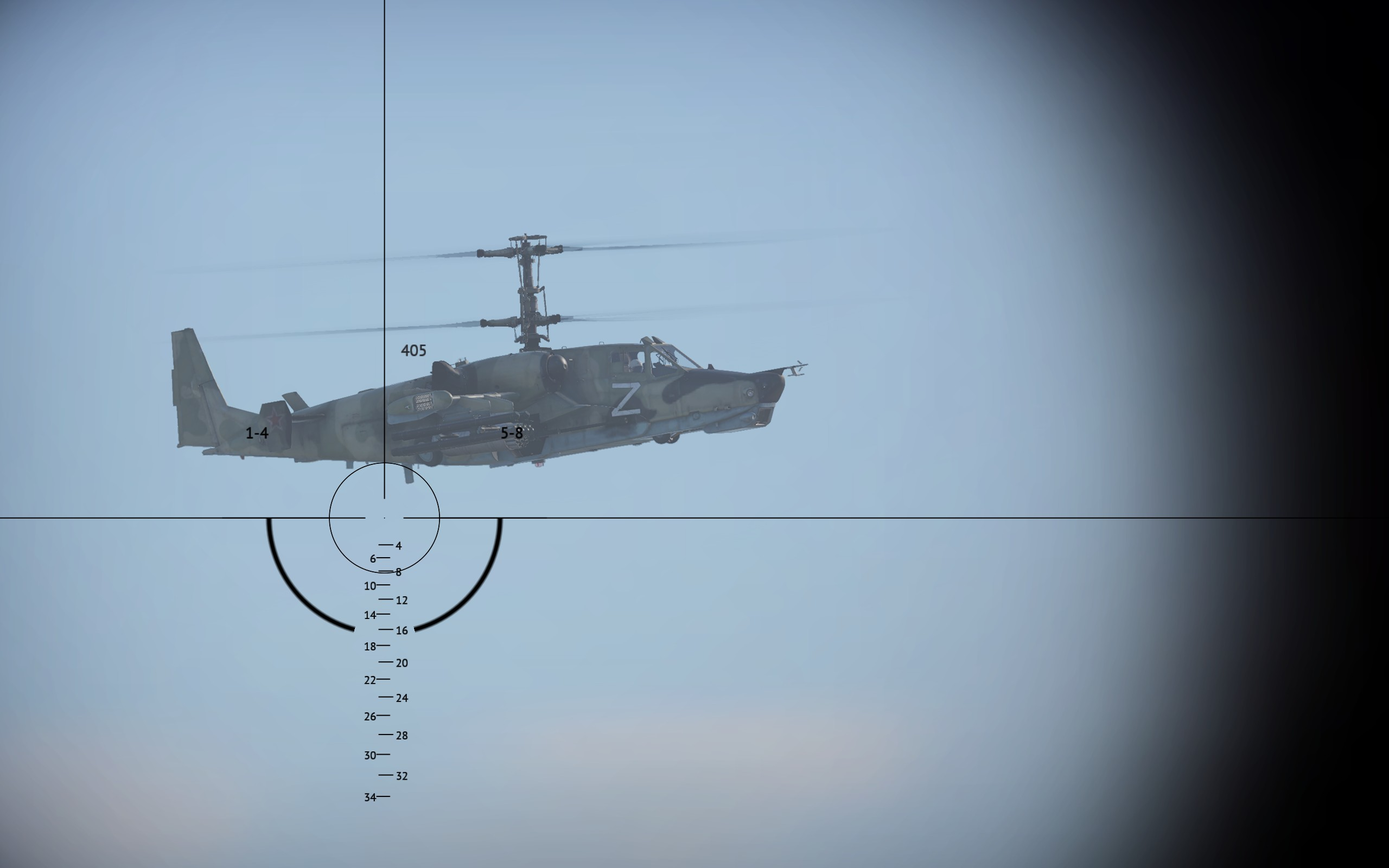ka50: (169, 231, 808, 485)
